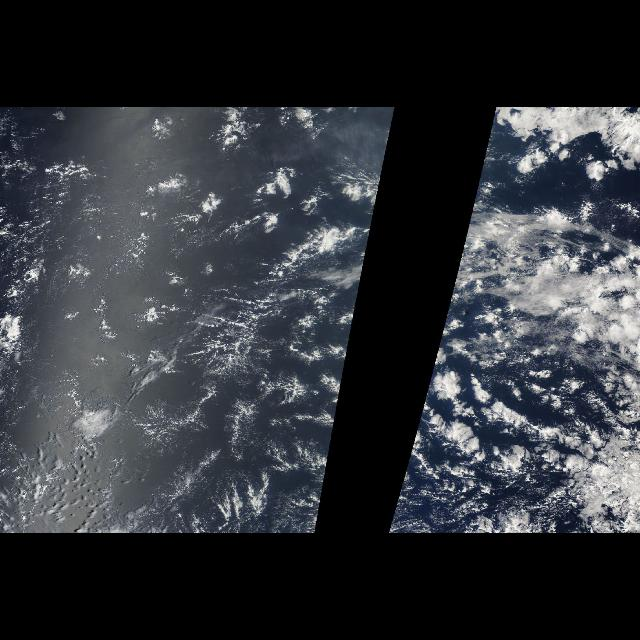Flower: (111, 112, 389, 522), (392, 138, 624, 522)
